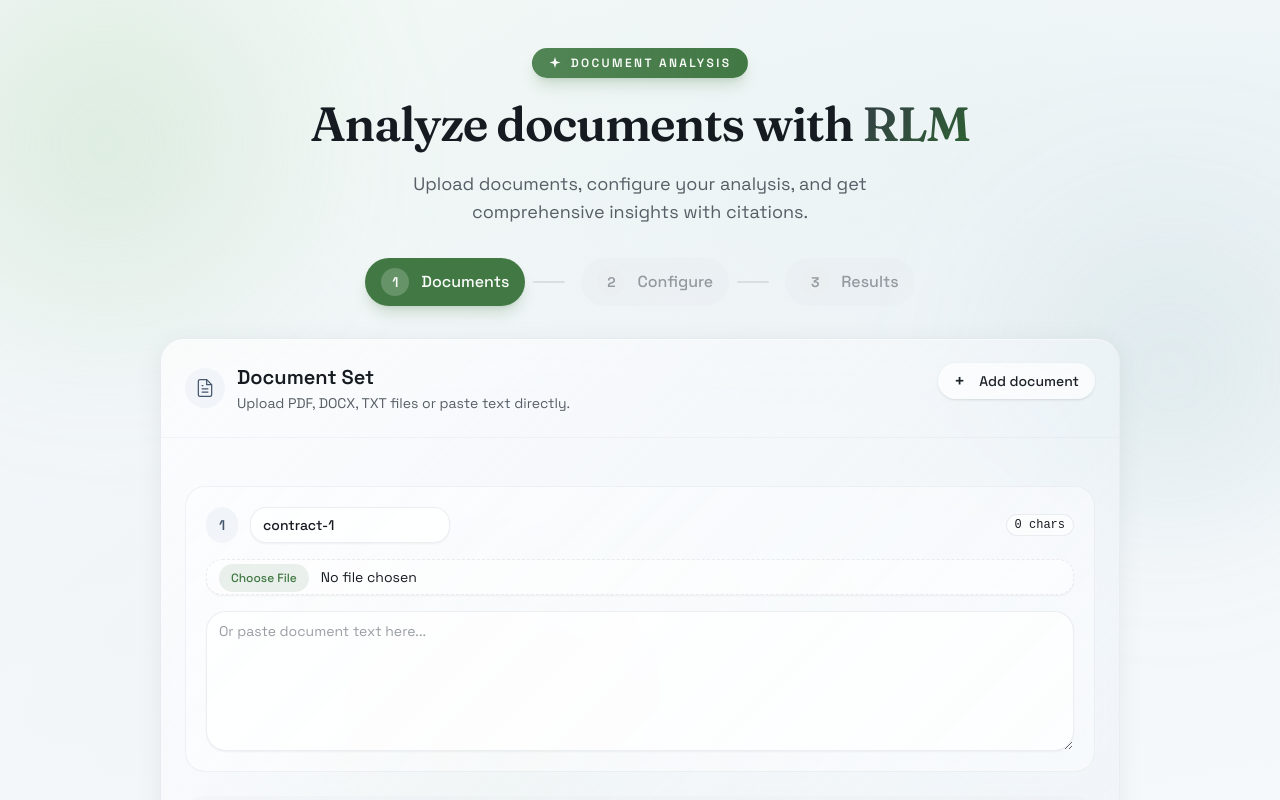
Home Page › workflow navigation › should navigate to configure step when Continue is clicked with documents
This screenshot has width=1280, height=800.
Note: Add some document text
Type "Some document content" into the text box with placeholder "Or paste document text here..." at (640, 681), box [206,611,1074,751]
(page scrolled)
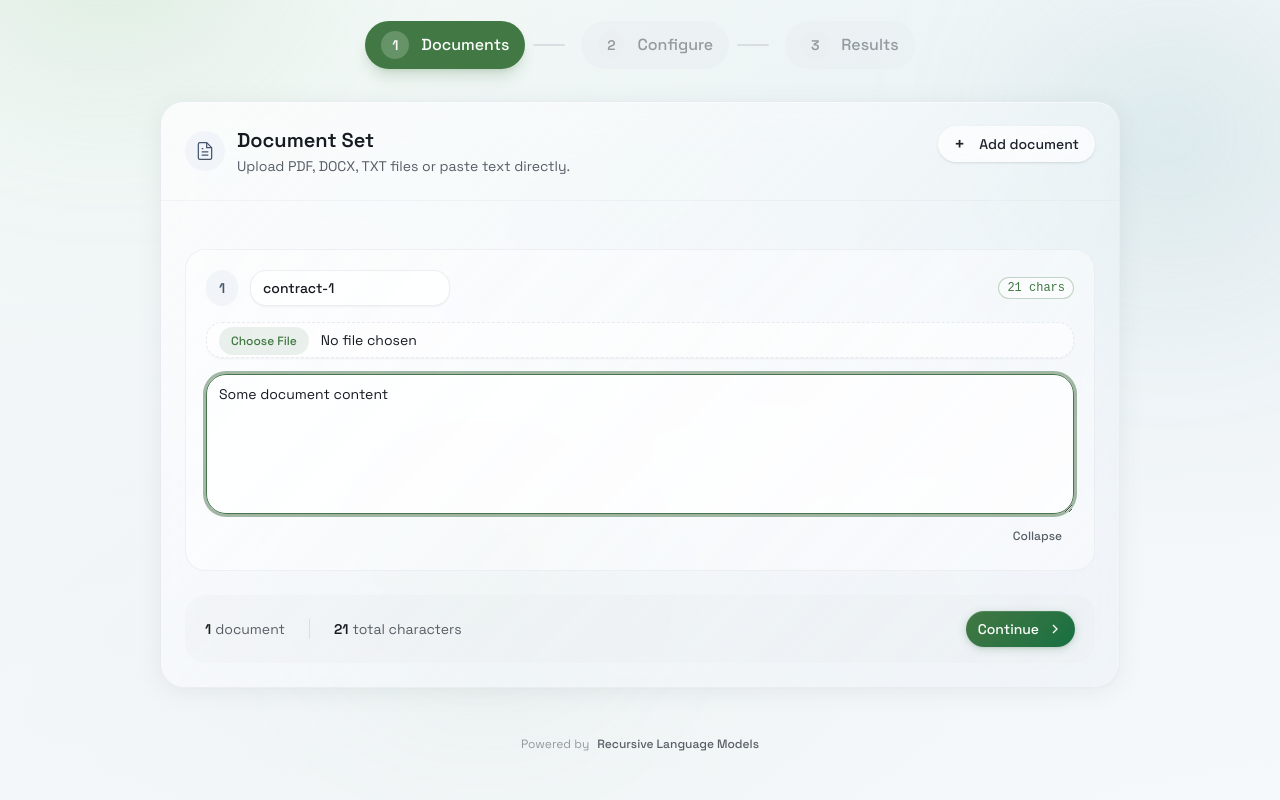
Note: Click continue
Click the button "Continue" at (1020, 629), box [966,611,1075,647]
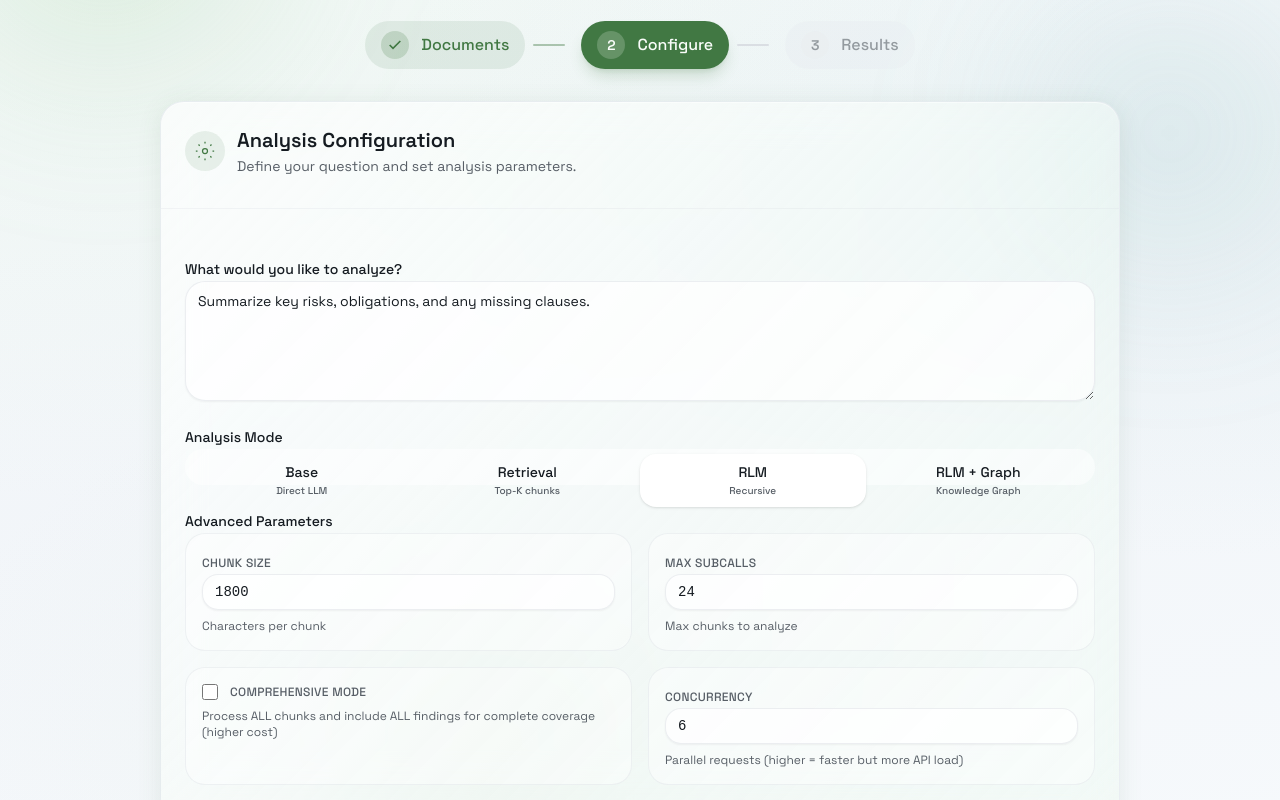
Now the text "Analysis Configuration" is shown, box [237,127,455,153]
